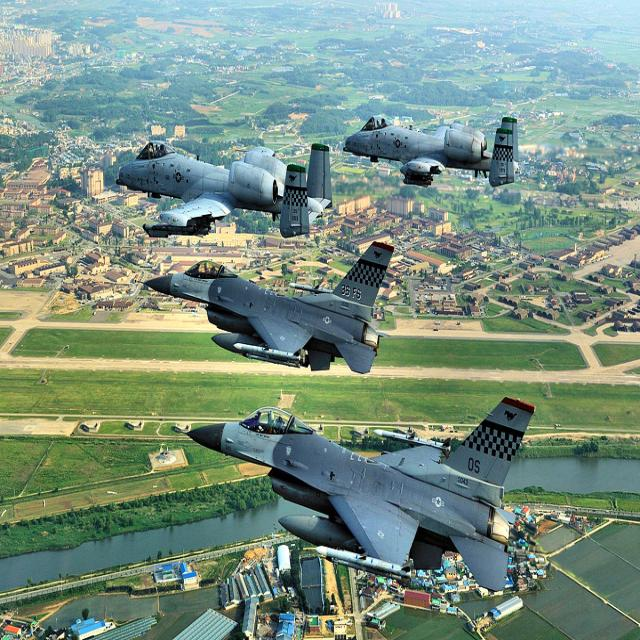MIL_Plane: (178, 395, 536, 591), (137, 242, 395, 374), (116, 138, 333, 240), (342, 115, 520, 188)
